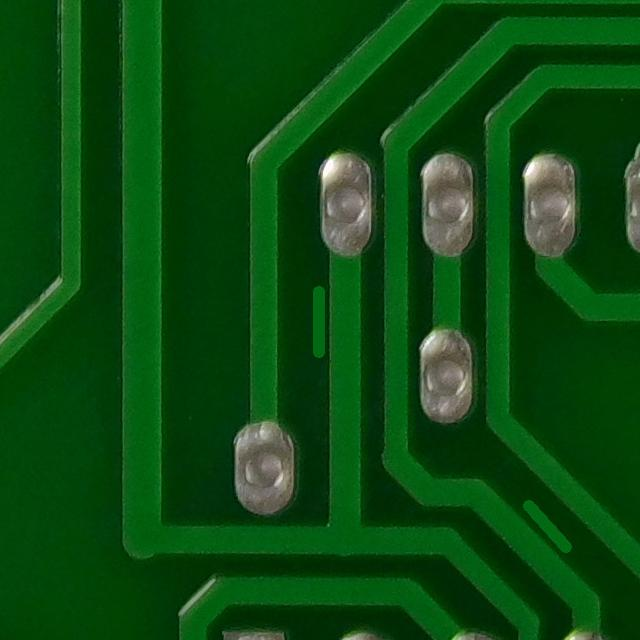spurious_copper: (298, 275, 342, 366)
